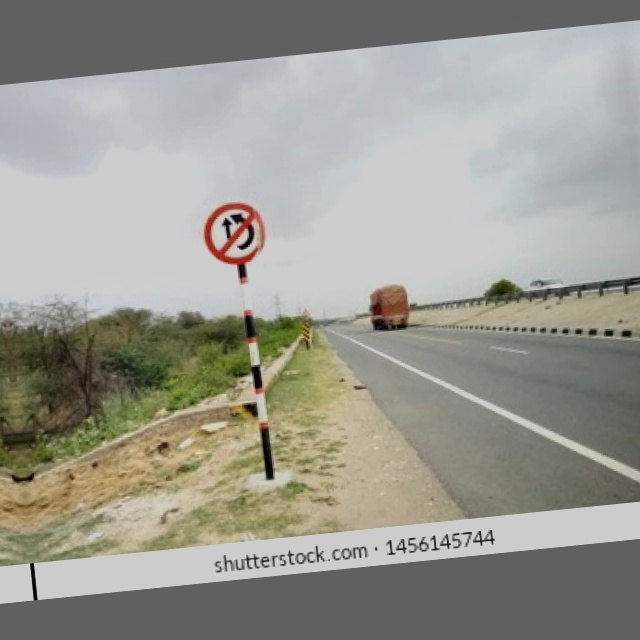Overtaking_Prohibited: (201, 200, 271, 271)
